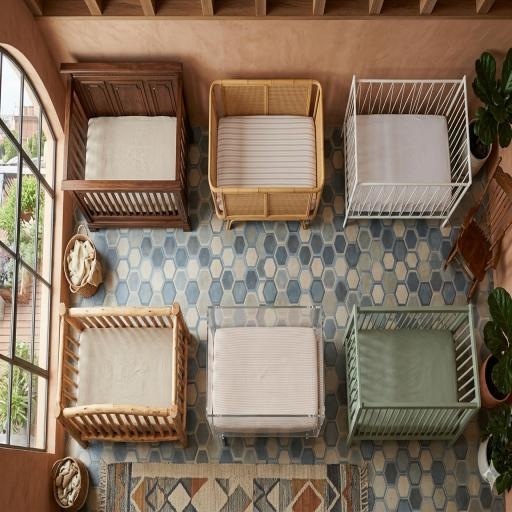crib: (61, 63, 190, 230), (55, 303, 190, 447), (344, 76, 471, 225), (344, 306, 480, 445), (209, 80, 324, 228), (207, 306, 325, 437)
